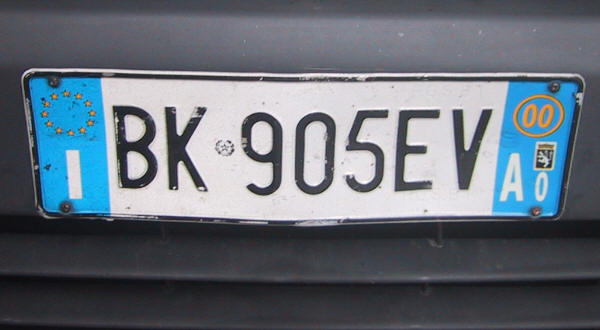license_plate: (20, 67, 586, 226)
